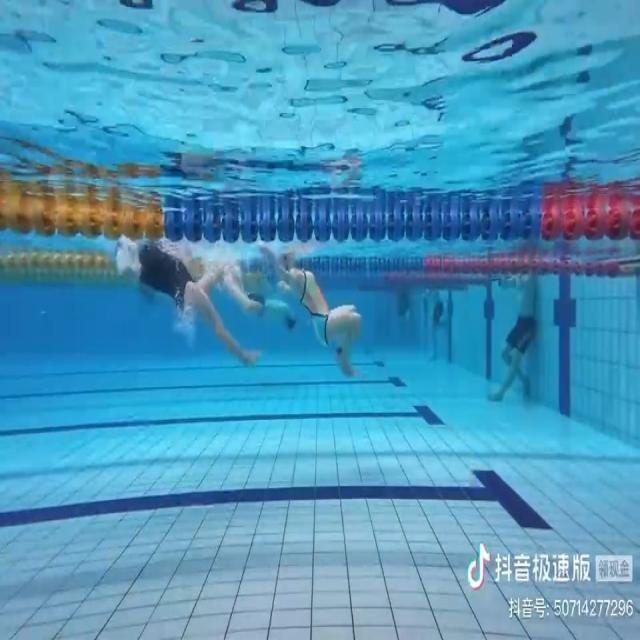Drowning: (116, 235, 268, 372)
Swimming: (273, 242, 364, 379)
